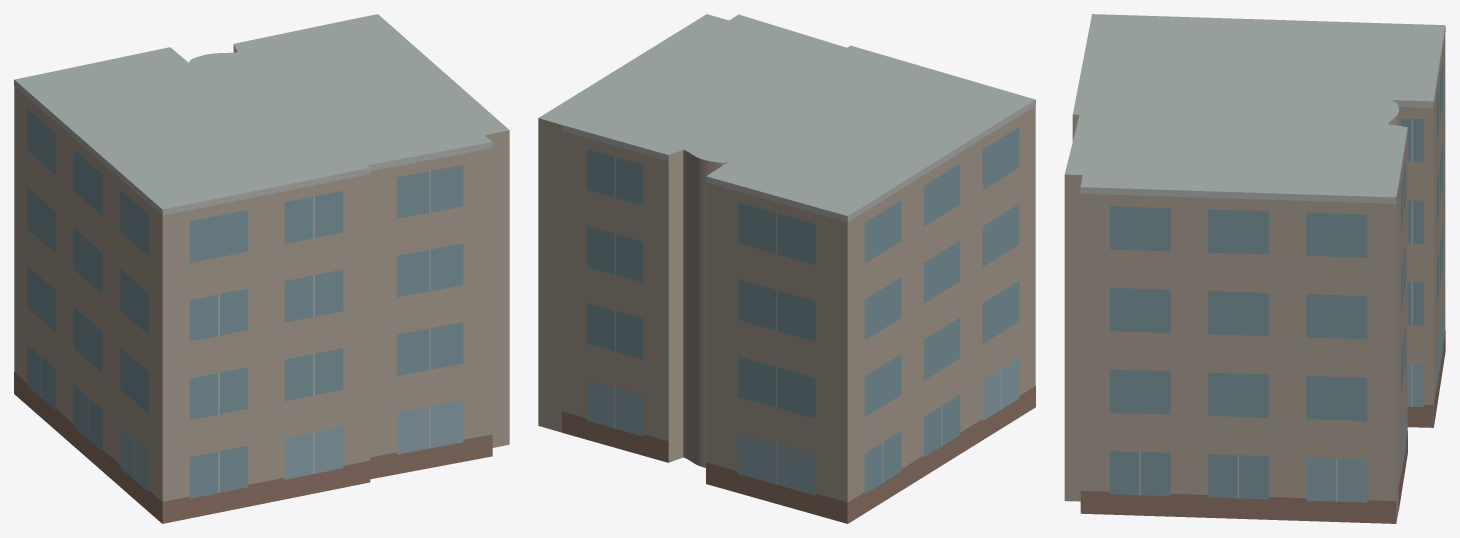
The model's file is survey-upis-32663439.glb.
3 views of the same model, side by side, from view 1: azimuth 30°, elevation 25°; view 2: azimuth 150°, elevation 25°; view 3: azimuth 270°, elevation 25° (orthographic). The views are drawn at different scales.
Visible parts, largest first — view 1: survey-upis-32663439.tmp; view 2: survey-upis-32663439.tmp; view 3: survey-upis-32663439.tmp.
Part boxes in pixels (x1,y1,x2,y2): survey-upis-32663439.tmp: (14,14,509,523); survey-upis-32663439.tmp: (538,14,1035,523); survey-upis-32663439.tmp: (1064,14,1445,523).
Size of the model in its own units: 14.71 by 12.2 by 12.91.
